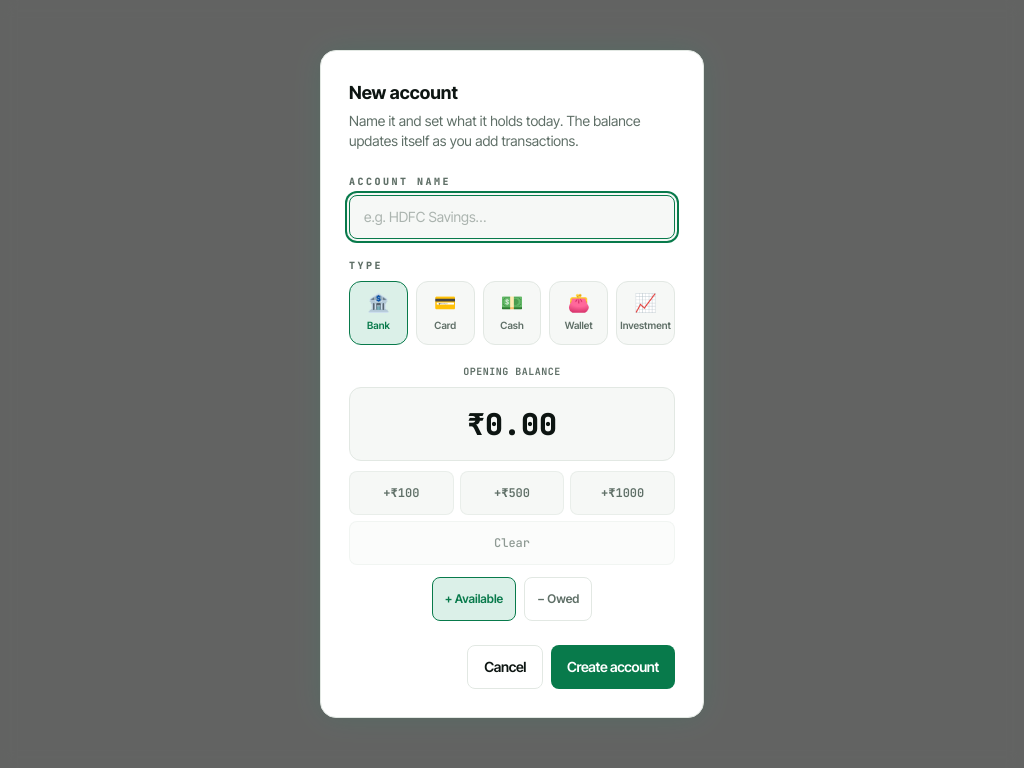
Test: CreateAccountSheet › validates the account name before creating an account
Step 1. Click the button "Create account" → (613, 667), box [551,645,675,689]
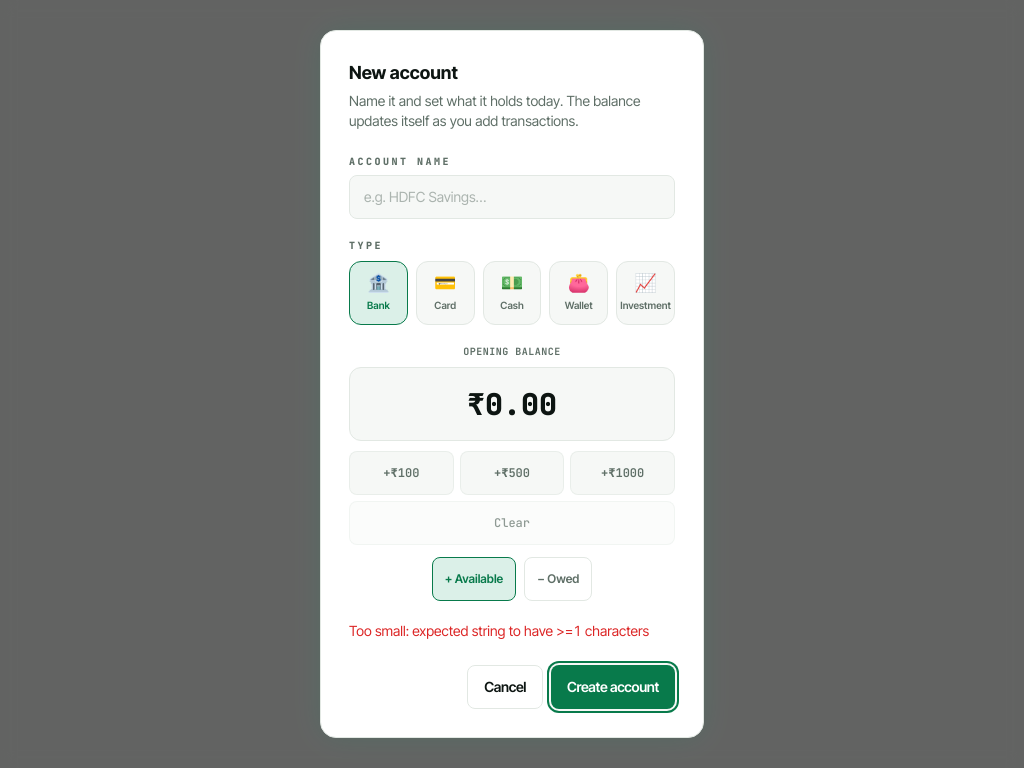
Expected: the message "Too small: expected string to have >=1 characters" is shown, [349,621,675,641]
